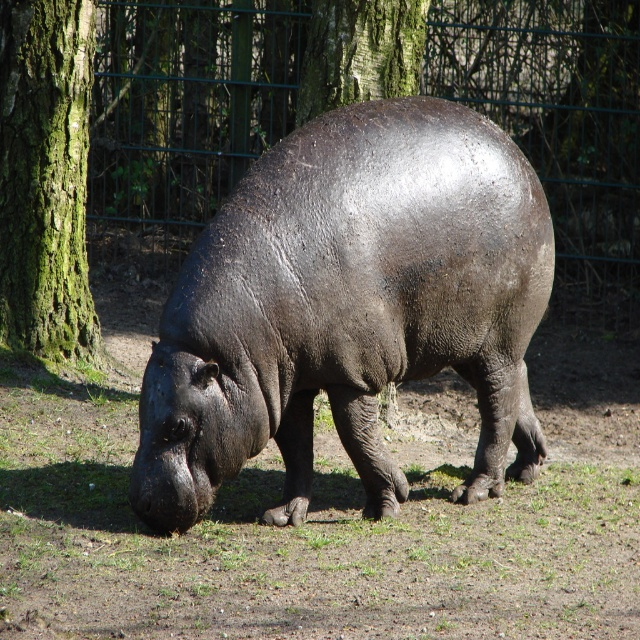Hippopotamus: (128, 93, 557, 538)
